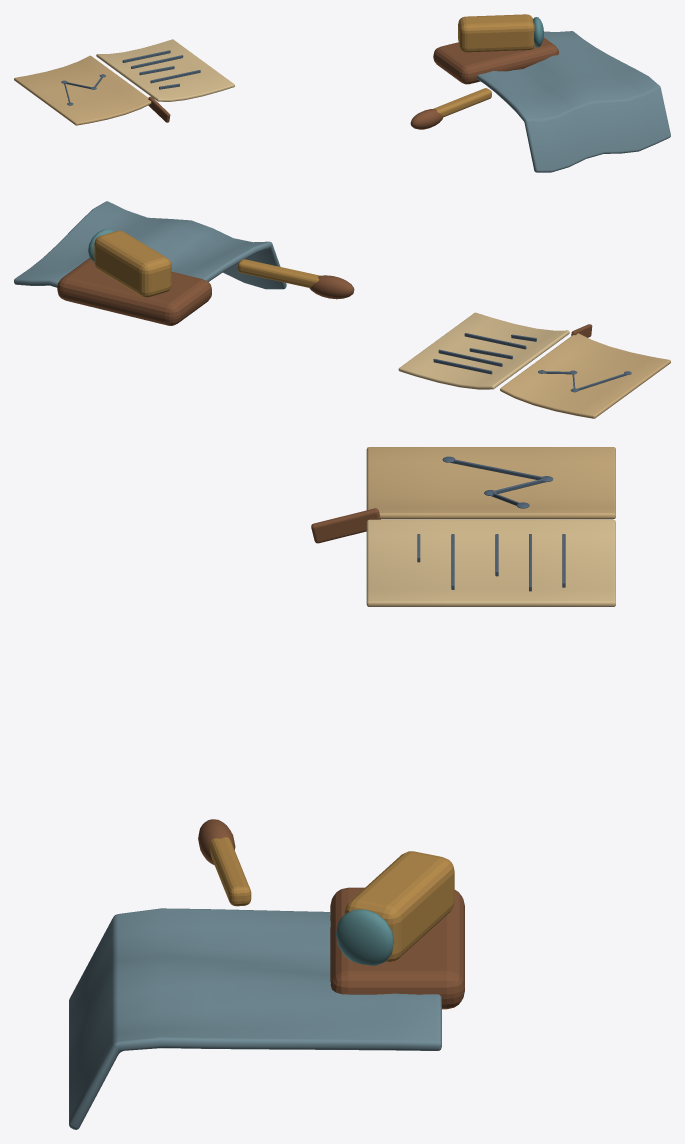
Rendered from observatory-desk-finish.glb.
The picture shows the model from 3 angles, top to bottom: view 1: azimuth 30°, elevation 25°; view 2: azimuth 150°, elevation 25°; view 3: azimuth 270°, elevation 25°; orthographic projection. The views are drawn at different scales.
Visible parts, largest first — view 1: DeskFinish_cloth, DeskFinish_paper, DeskFinish_paper_light, DeskFinish_leather, DeskFinish_brass, DeskFinish_ink, DeskFinish_glass; view 2: DeskFinish_cloth, DeskFinish_paper, DeskFinish_paper_light, DeskFinish_leather, DeskFinish_brass, DeskFinish_ink; view 3: DeskFinish_cloth, DeskFinish_paper_light, DeskFinish_paper, DeskFinish_leather, DeskFinish_brass, DeskFinish_glass, DeskFinish_ink.
Part boxes in pixels (x1=…): DeskFinish_cloth: x1=477, y1=31, x2=670, y2=172; DeskFinish_paper: x1=14, y1=55, x2=151, y2=125; DeskFinish_paper_light: x1=96, y1=39, x2=234, y2=101; DeskFinish_leather: x1=148, y1=37, x2=558, y2=129; DeskFinish_brass: x1=433, y1=14, x2=534, y2=117; DeskFinish_ink: x1=61, y1=50, x2=200, y2=105; DeskFinish_glass: x1=533, y1=17, x2=543, y2=47; DeskFinish_cloth: x1=14, y1=201, x2=286, y2=289; DeskFinish_paper: x1=500, y1=333, x2=670, y2=418; DeskFinish_paper_light: x1=398, y1=312, x2=569, y2=389; DeskFinish_leather: x1=57, y1=258, x2=592, y2=337; DeskFinish_brass: x1=94, y1=230, x2=319, y2=297; DeskFinish_ink: x1=433, y1=333, x2=631, y2=392; DeskFinish_cloth: x1=69, y1=908, x2=441, y2=1129; DeskFinish_paper_light: x1=366, y1=519, x2=615, y2=606; DeskFinish_paper: x1=366, y1=447, x2=615, y2=519; DeskFinish_leather: x1=198, y1=508, x2=464, y2=1009; DeskFinish_brass: x1=210, y1=837, x2=454, y2=961; DeskFinish_glass: x1=336, y1=909, x2=394, y2=965; DeskFinish_ink: x1=417, y1=456, x2=565, y2=591.
Bounding box in the file's own units: 1.48 × 0.2718 × 0.6714.
